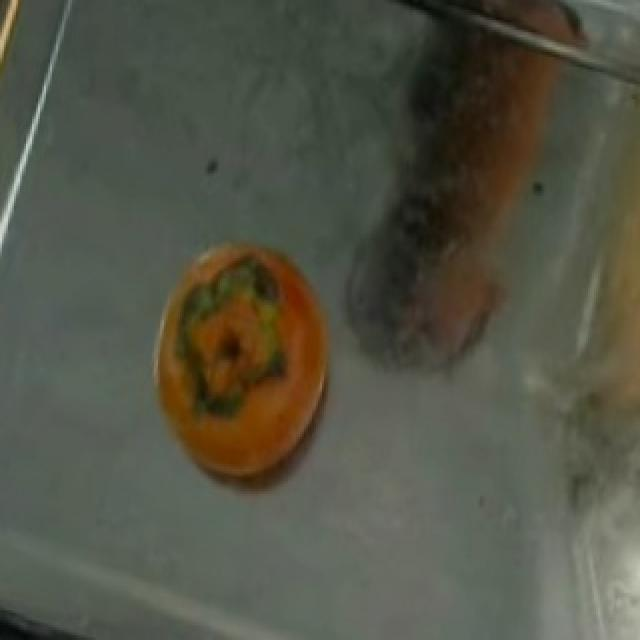Fruit: (130, 236, 360, 498), (0, 0, 50, 159)
